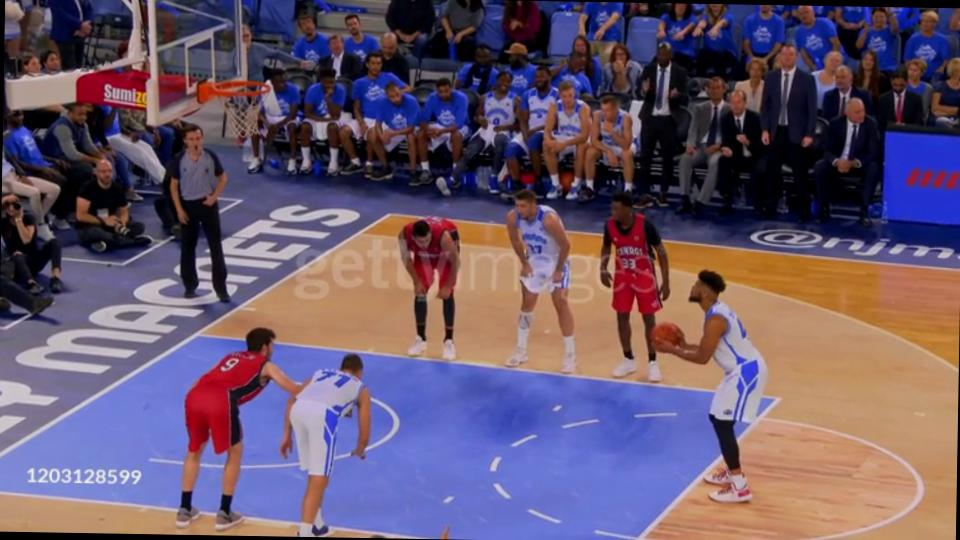hoop: (192, 79, 272, 105)
